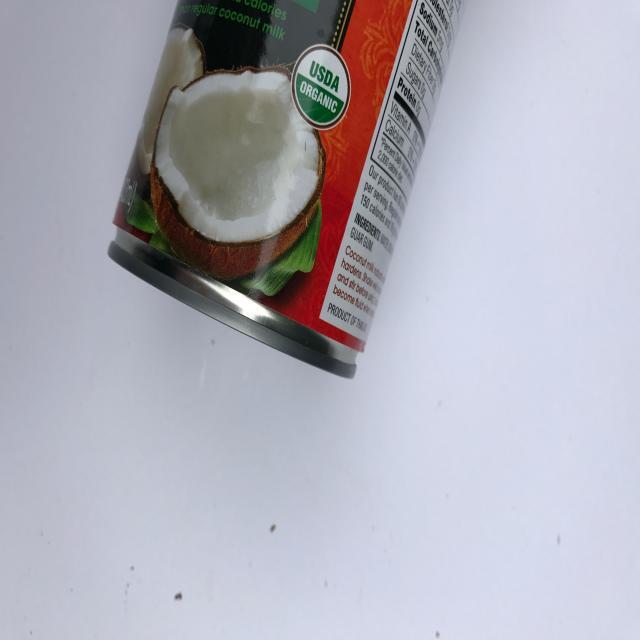metal: (109, 1, 468, 380)
